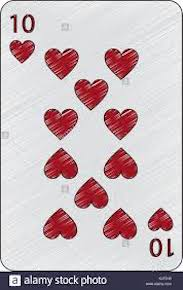TenOfHearts: (1, 1, 183, 271)
